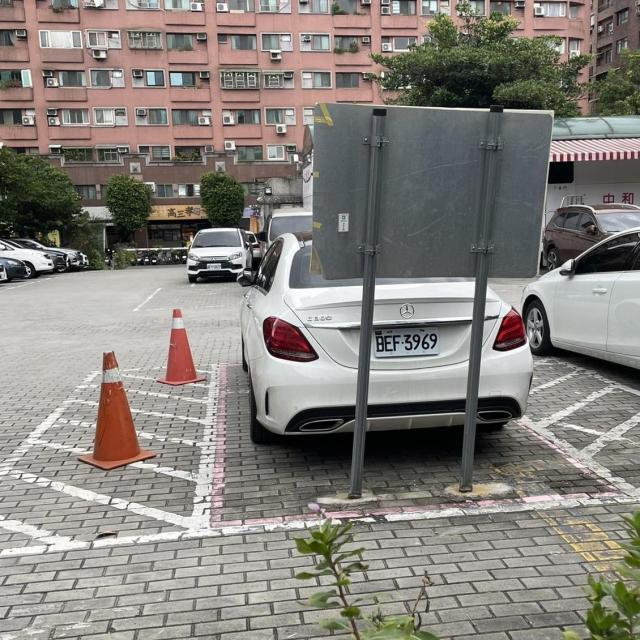W: (363, 325, 443, 360), (203, 262, 224, 272)
